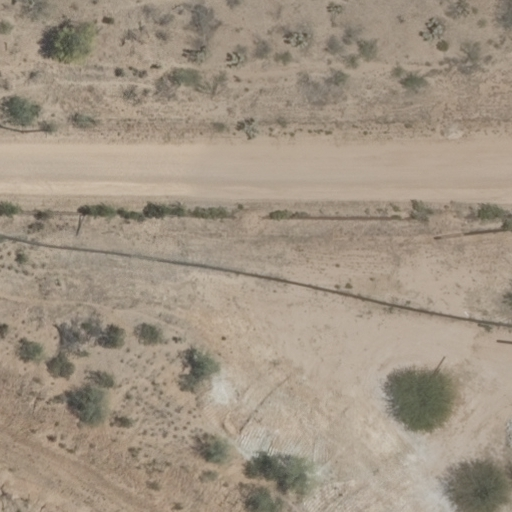DT: (8, 117, 58, 141)
